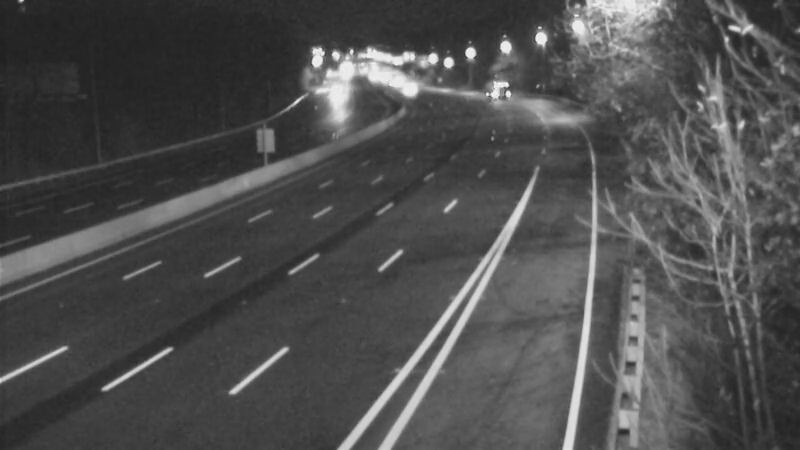vehicle: (369, 57, 419, 107), (464, 67, 514, 117), (380, 62, 430, 112), (313, 73, 363, 123)
